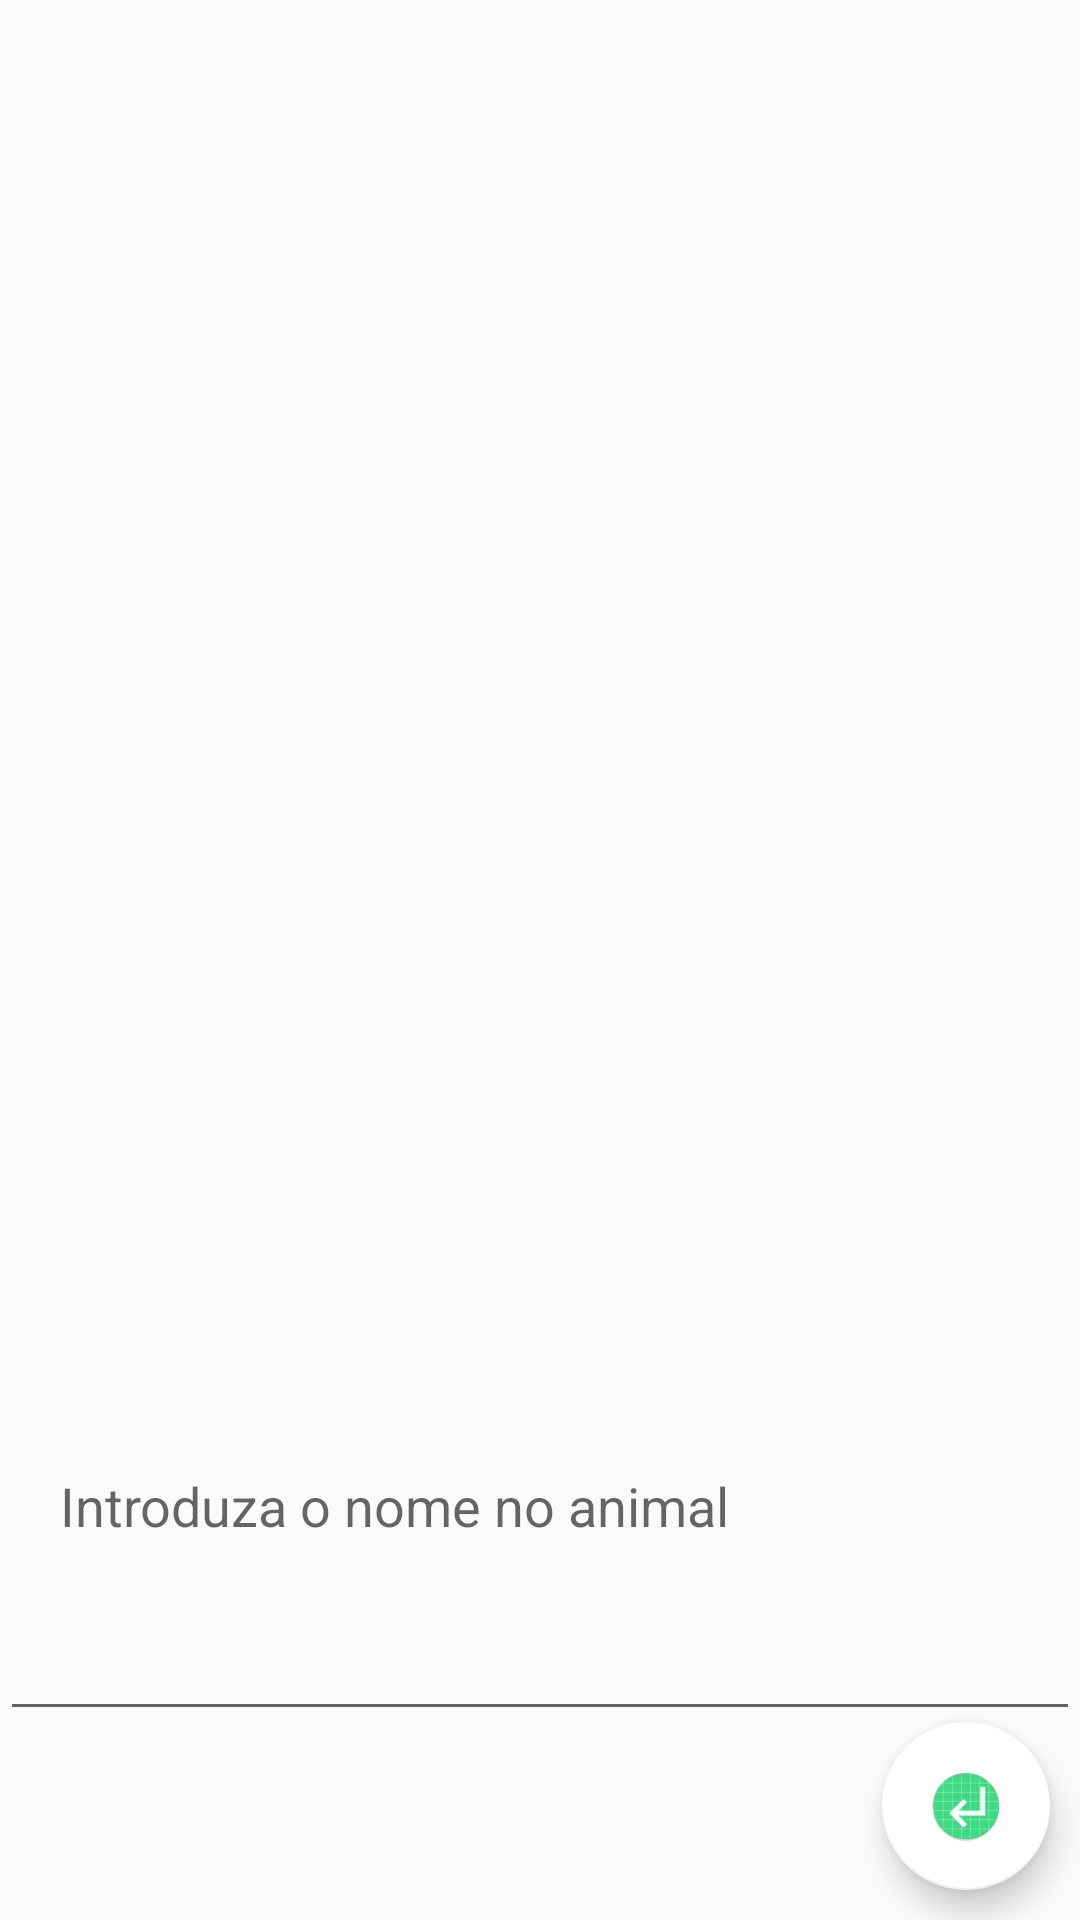

Where icons sit on this 1080w x 1920h app screen, as [x1=x1, y1=y1, x2=x2, y2=y2]:
submit round: [x1=888, y1=1773, x2=999, y2=1841]
